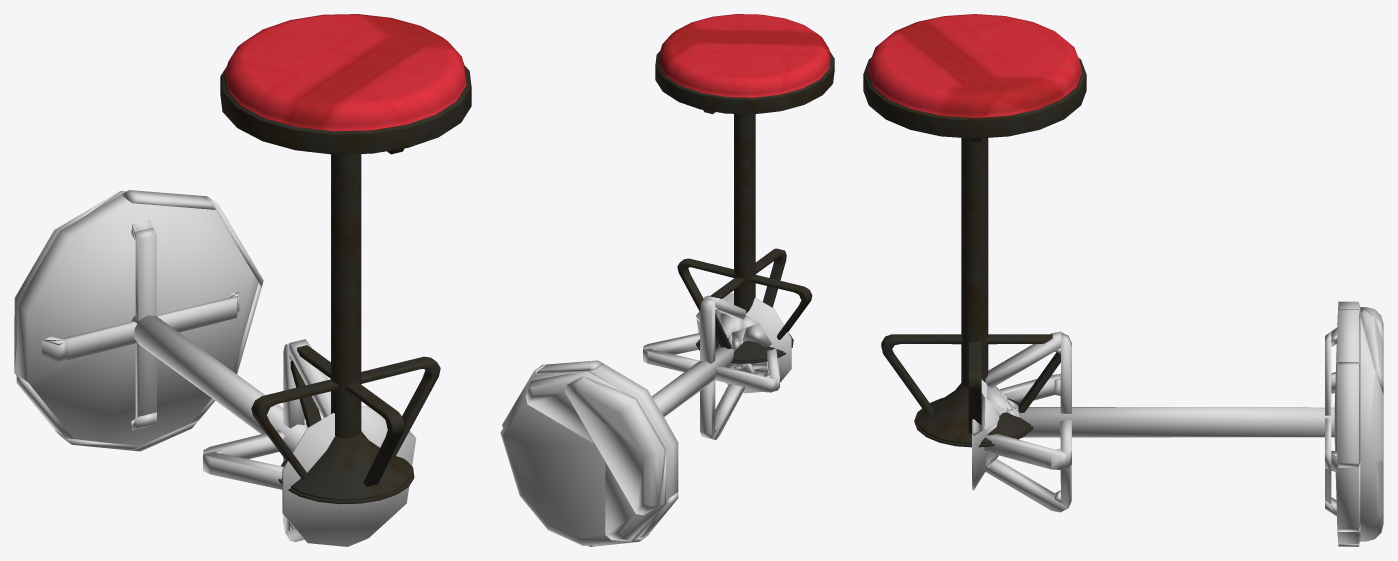
The model's file is SM_Stool.fbx.
3 renders of one model, left to right at view 1: azimuth 30°, elevation 25°; view 2: azimuth 150°, elevation 25°; view 3: azimuth 270°, elevation 25°, orthographic. The views are drawn at different scales.
Parts seen in each view (by area): view 1: SM_Stool_ConvexHulls, SM_Stool; view 2: SM_Stool_ConvexHulls, SM_Stool; view 3: SM_Stool, SM_Stool_ConvexHulls.
Boxes of the visible parts, x1,y1,x2,y2 form: SM_Stool_ConvexHulls: (14,190,416,546); SM_Stool: (220,14,471,504); SM_Stool_ConvexHulls: (500,293,791,546); SM_Stool: (655,14,834,363); SM_Stool: (863,14,1086,447); SM_Stool_ConvexHulls: (972,301,1383,546).
Size of the model in its own units: 0.4682 by 1.03 by 1.01.
